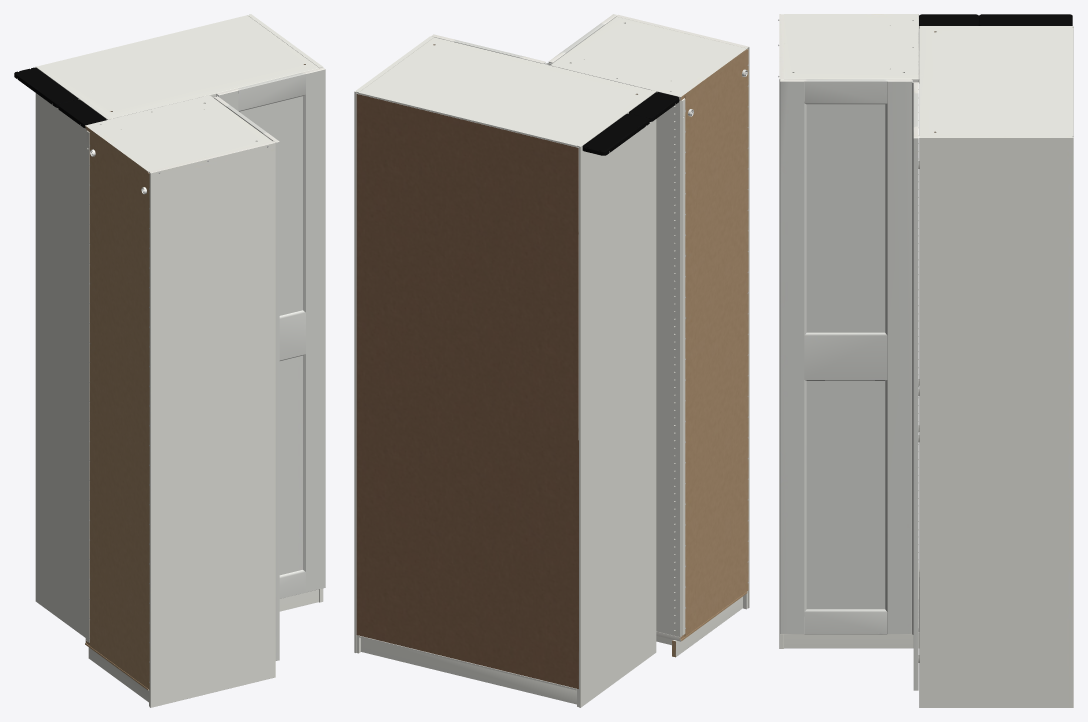
The model's file is pax_grimo_szafa_narozna_39218512.glb.
3 views of the same model, side by side, from view 1: azimuth 30°, elevation 25°; view 2: azimuth 150°, elevation 25°; view 3: azimuth 270°, elevation 25° (orthographic). The views are drawn at different scales.
Parts seen in each view (by area): view 1: pax_grimo_szafa_narozna_39218512; view 2: pax_grimo_szafa_narozna_39218512; view 3: pax_grimo_szafa_narozna_39218512.
Part boxes in pixels (x1,y1,x2,y2): pax_grimo_szafa_narozna_39218512: [14, 14, 325, 707]; pax_grimo_szafa_narozna_39218512: [354, 14, 749, 707]; pax_grimo_szafa_narozna_39218512: [778, 14, 1073, 707].
Bounding box in the file's own units: 1.11 × 2.36 × 1.11.
Materials: 1 (1 with a texture image).
